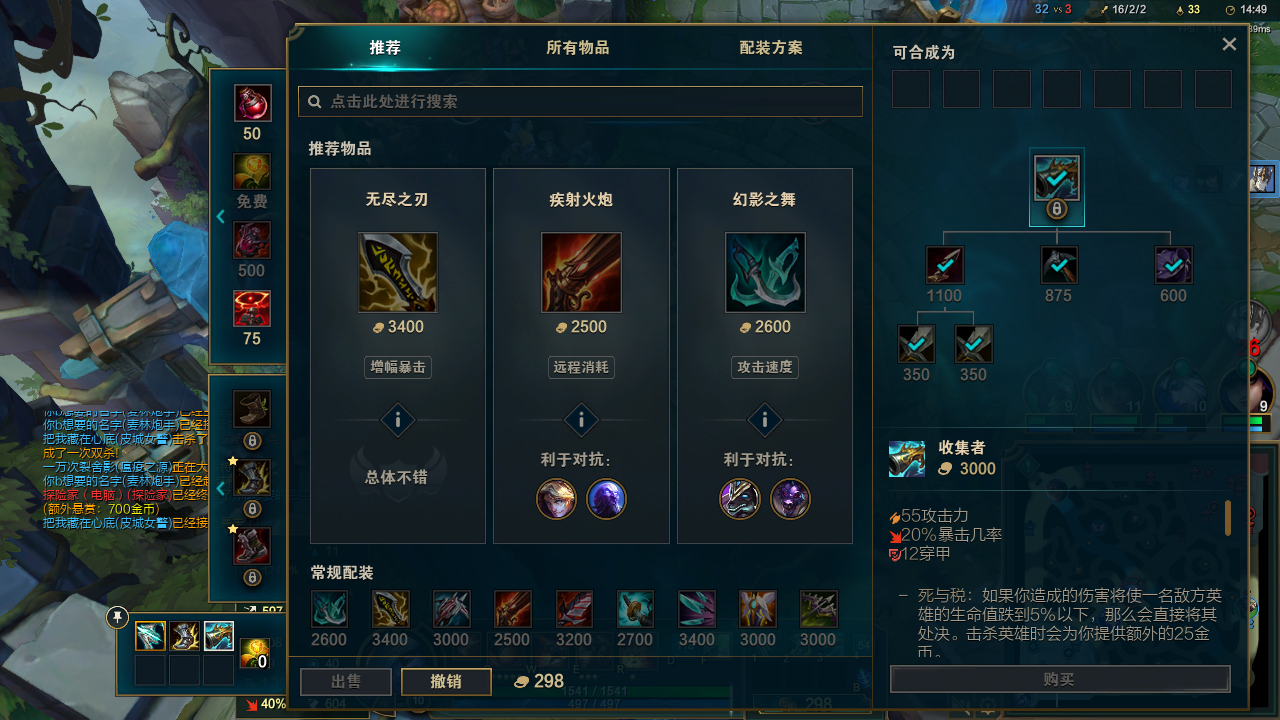GTH: (732, 391, 792, 440), (551, 398, 612, 438), (377, 397, 429, 436)
TJJM: (326, 25, 422, 73)
